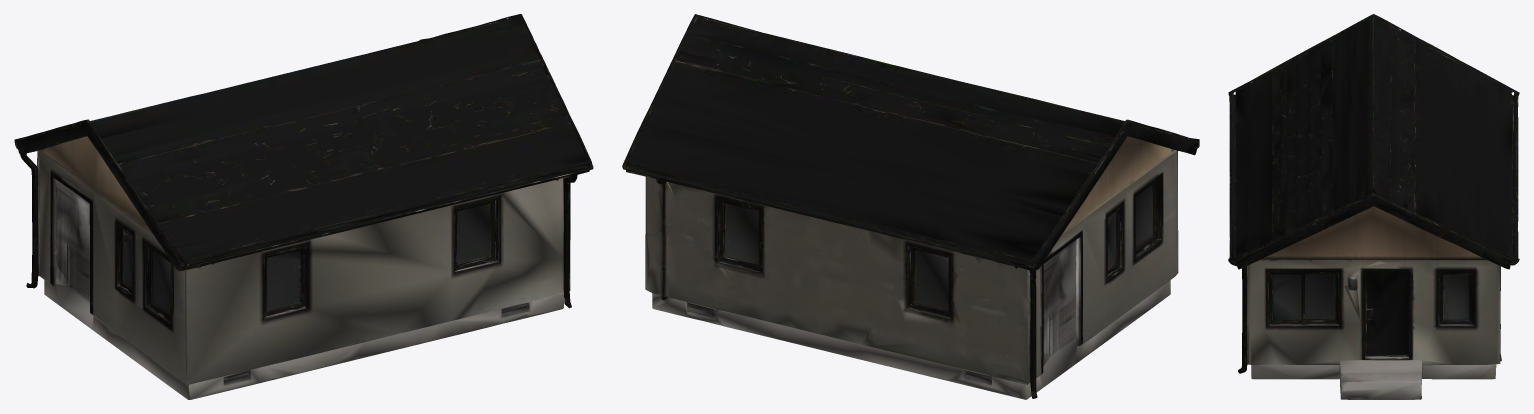
Rendered from finishedAlt-standard.glb.
The picture shows the model from 3 angles, left to right: view 1: azimuth 30°, elevation 25°; view 2: azimuth 150°, elevation 25°; view 3: azimuth 270°, elevation 25°; orthographic projection. The views are drawn at different scales.
Parts seen in each view (by area): view 1: world; view 2: world; view 3: world.
Boxes of the visible parts, x1=… form: world: x1=14, y1=14, x2=593, y2=399; world: x1=622, y1=14, x2=1199, y2=399; world: x1=1228, y1=14, x2=1519, y2=399.
Bounding box in the file's own units: 1 × 0.4941 × 0.6553.
1 material, 1 textured.
